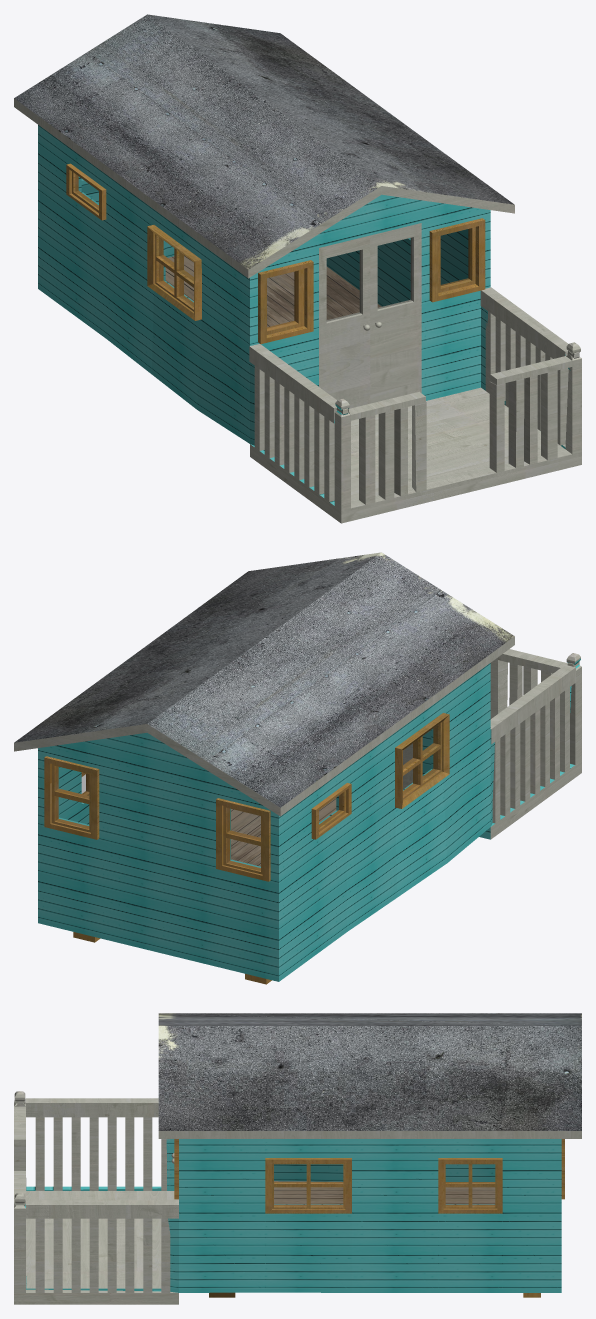
File: hut.glb
The picture shows the model from 3 angles, top to bottom: view 1: azimuth 30°, elevation 25°; view 2: azimuth 150°, elevation 25°; view 3: azimuth 270°, elevation 25°; orthographic projection. The views are drawn at different scales.
Parts seen in each view (by area): view 1: Large Beach Hut 1, Right Door, Left Door; view 2: Large Beach Hut 1; view 3: Large Beach Hut 1.
Boxes of the visible parts, x1,y1,x2,y2 form: Large Beach Hut 1: (14, 14, 581, 523); Right Door: (370, 223, 421, 403); Left Door: (319, 235, 370, 408); Large Beach Hut 1: (14, 552, 581, 984); Large Beach Hut 1: (14, 1013, 581, 1304).
Size of the model in its own units: 2.94 by 2.67 by 6.
6 materials, 5 textured.
